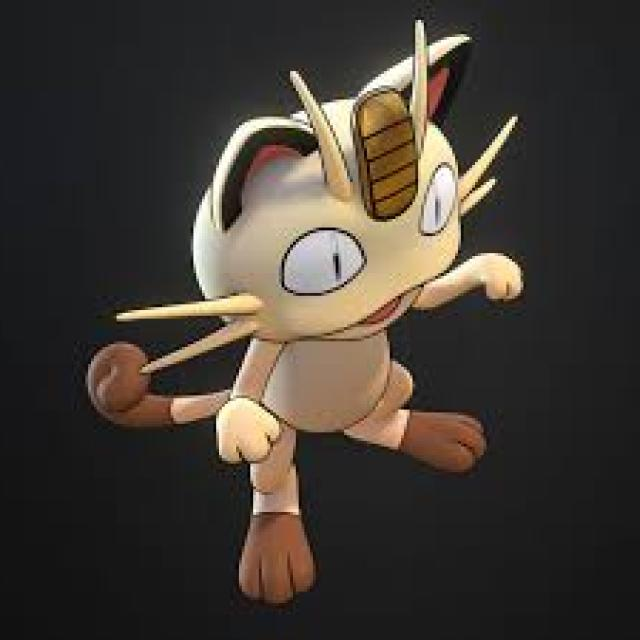Meowth: (198, 42, 480, 550)
